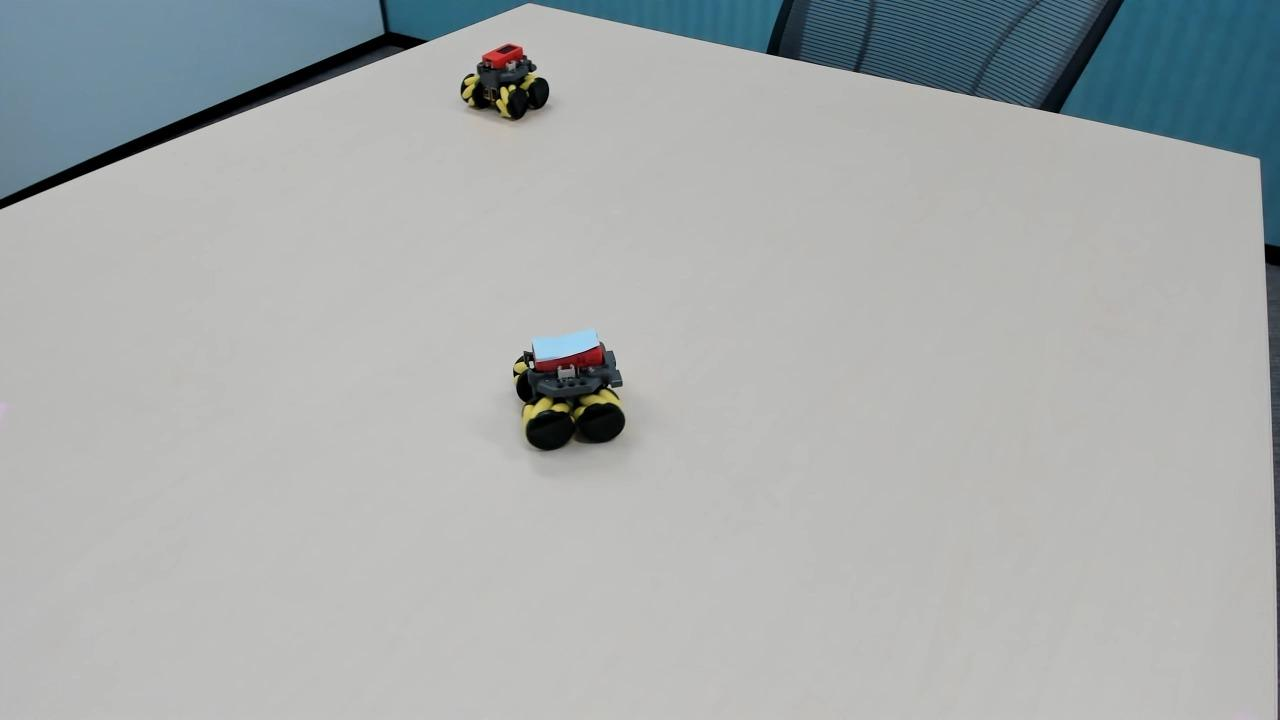B-Robot: (499, 318, 640, 464)
R-Robot: (455, 34, 569, 144)
